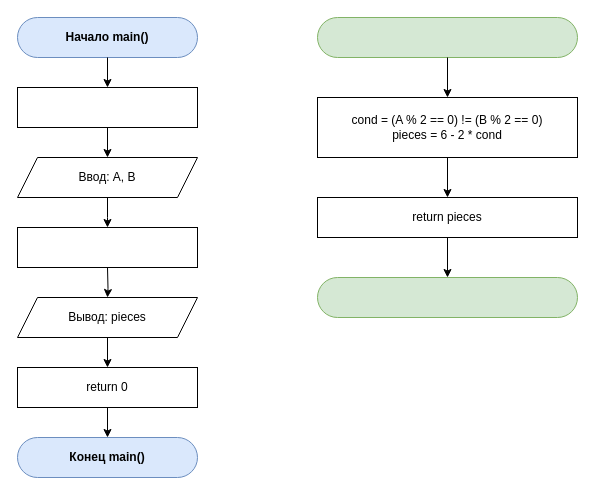
The diagram is 595 pixels wide and 495 high, and some of its shapes have lost their labels. Each missing label, with the centre of its shape:
pieces = task(A, B): point 107,247
setlocale(LC_ALL, "RUS"): point 107,107
Конец task: point 447,297
Начало task(A, B): point 447,37
